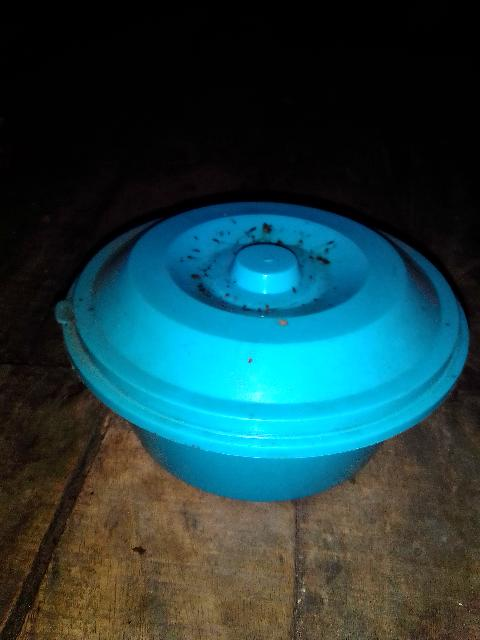hardplastic: (53, 180, 480, 503)
